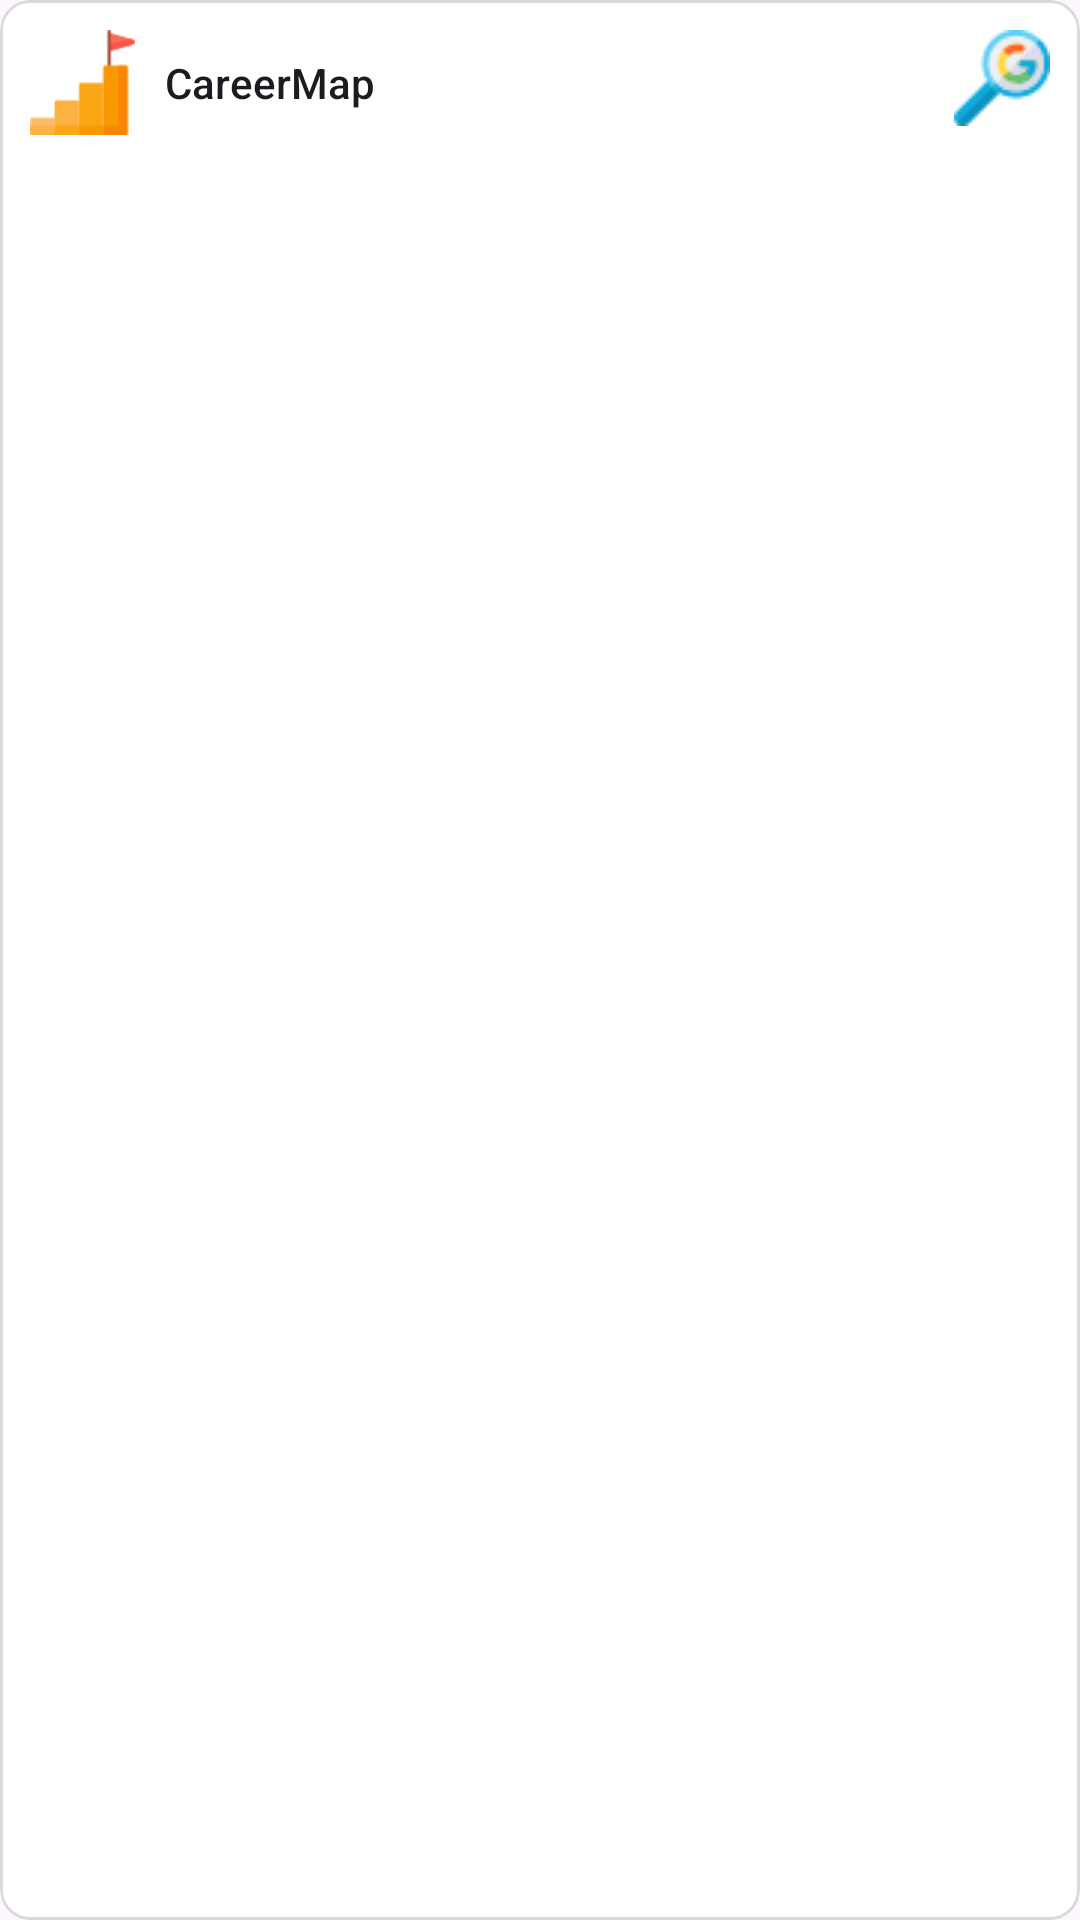

Icon bounding boxes for this 1080x1920 phone screenshot, format (x1, y1, x2, y2):
carreer: (30, 30, 135, 135)
